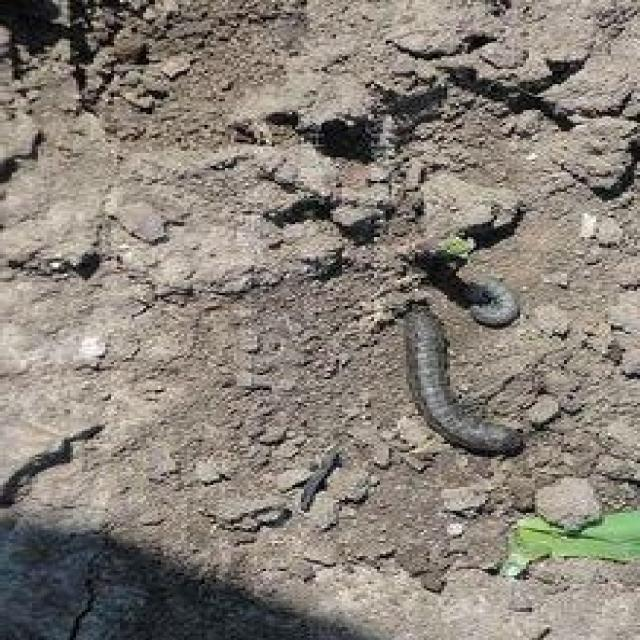black cutworm: (381, 312, 521, 480), (458, 278, 520, 332)
